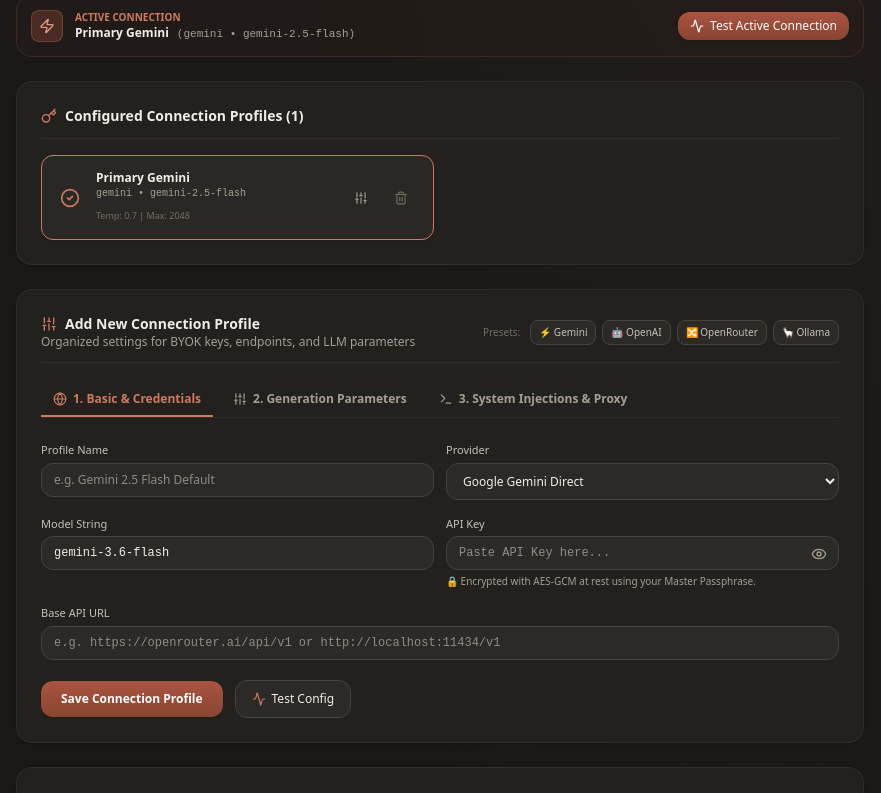
Test case: SettingsView and Sub-sections › allows switching connection profile form tabs and viewing parameters
(page scrolled)
// Switch to parameters tab
Click the button "2. Generation Parameters". click: (320, 400)
box: [221, 383, 419, 417]
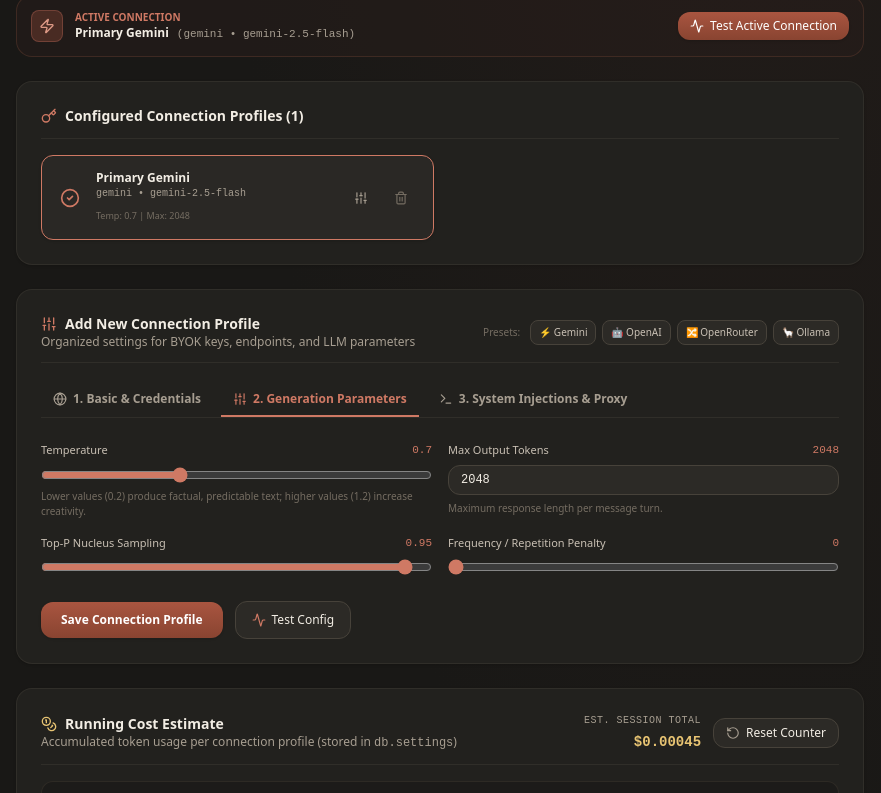
Now the text "Max Output Tokens" is shown, box [448, 442, 549, 459]
// Switch to advanced tab
Click the button "3. System Injections & Proxy". click: (533, 400)
box: [427, 383, 639, 417]
(page scrolled)
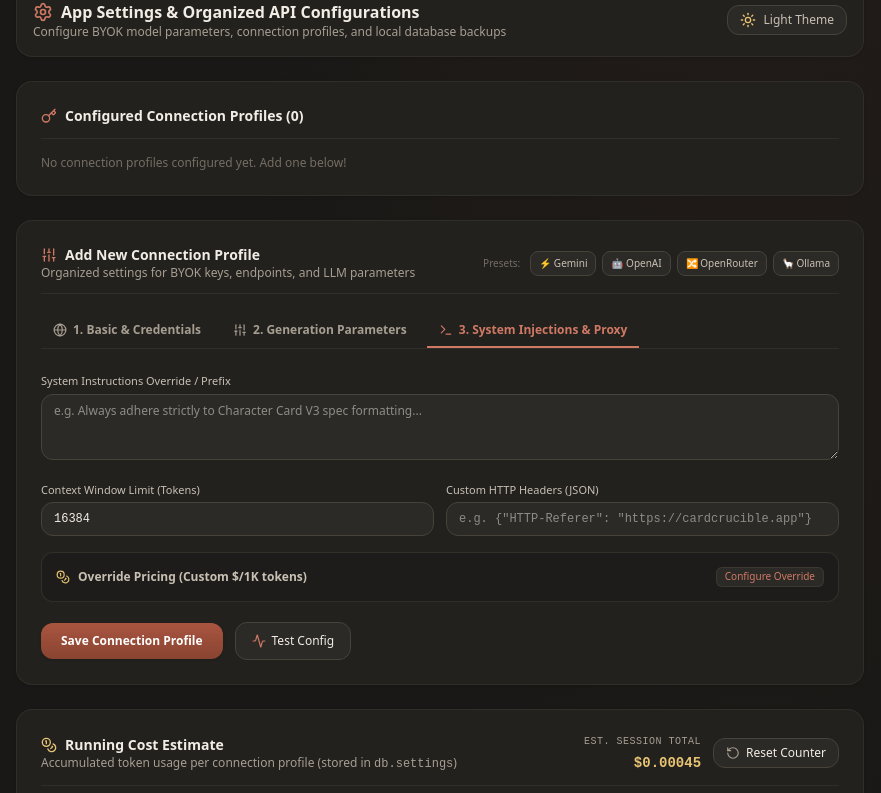
Now the text "System Instructions Override / Prefix" is shown, box [41, 373, 231, 388]
